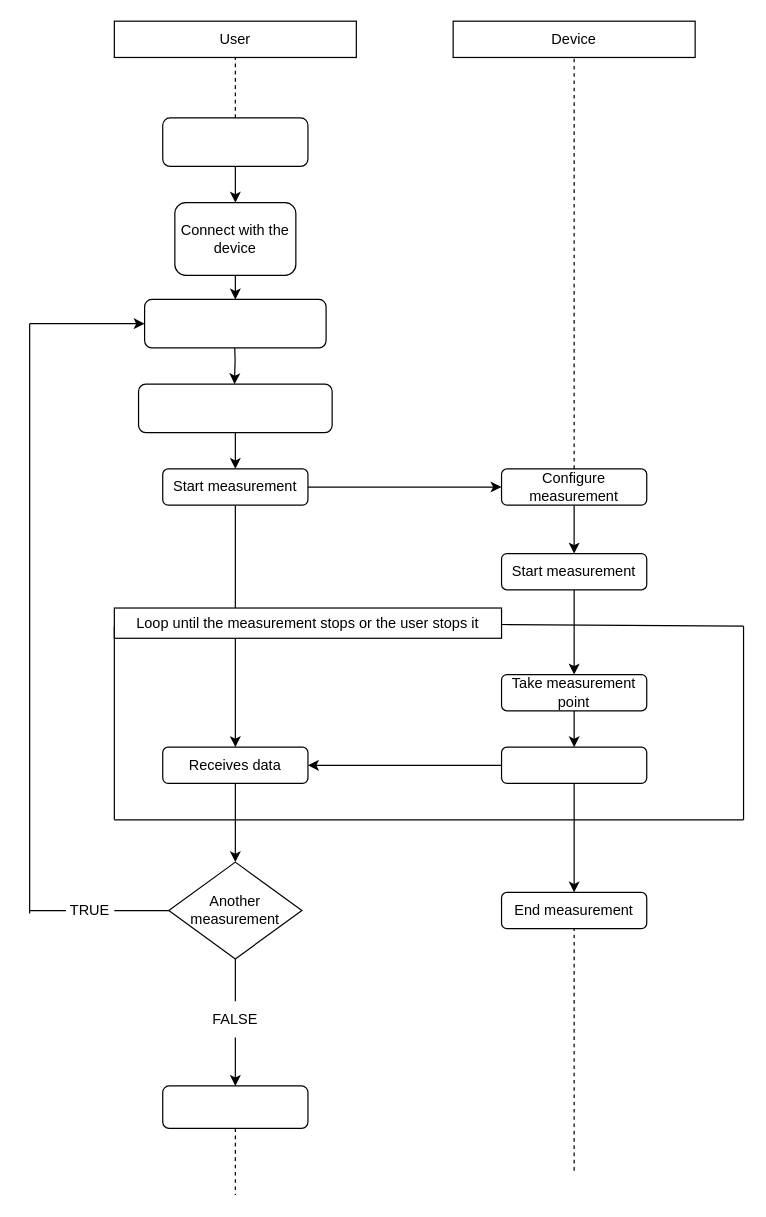
Some shapes in this 766 by 1217 pixel diagram are drawn without their labels. The centre of each missing label's shape, as x and y in pixels:
"Configure parameters of the electrochemica technique" goes at [234,408].
"End application" goes at [235,1106].
"Select electrochemical technique" goes at [234,323].
"Send data to the user" goes at [573,764].
"Start viSens-S" goes at [235,141].
